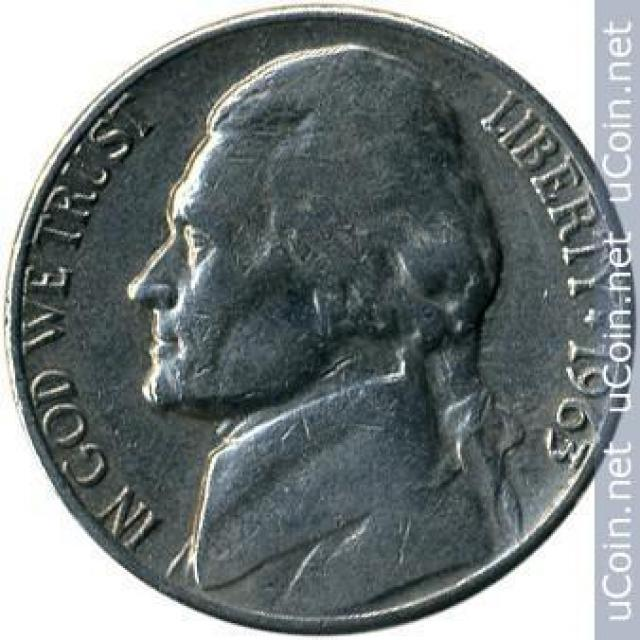Nickel: (17, 9, 638, 638)
